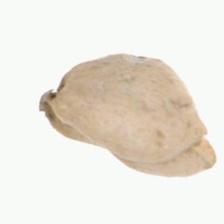L1: (36, 76, 67, 131), (188, 120, 218, 172)
L2: (37, 53, 217, 177)
